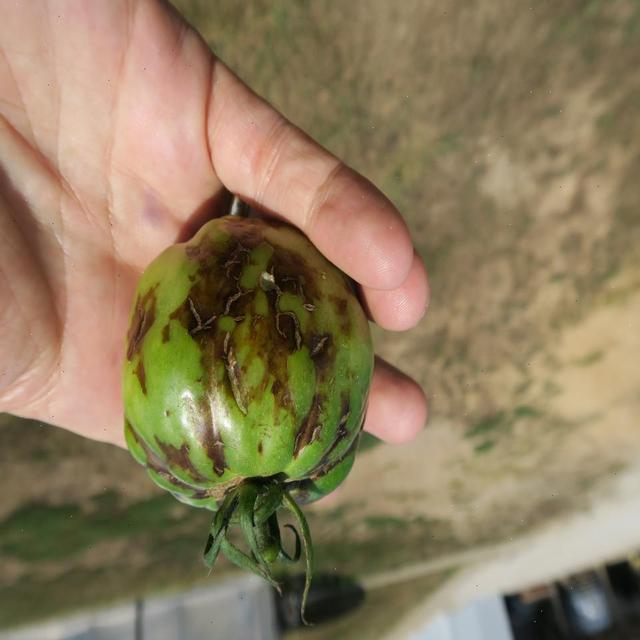Spotted wilt Virus Fruit: (78, 142, 251, 349)
